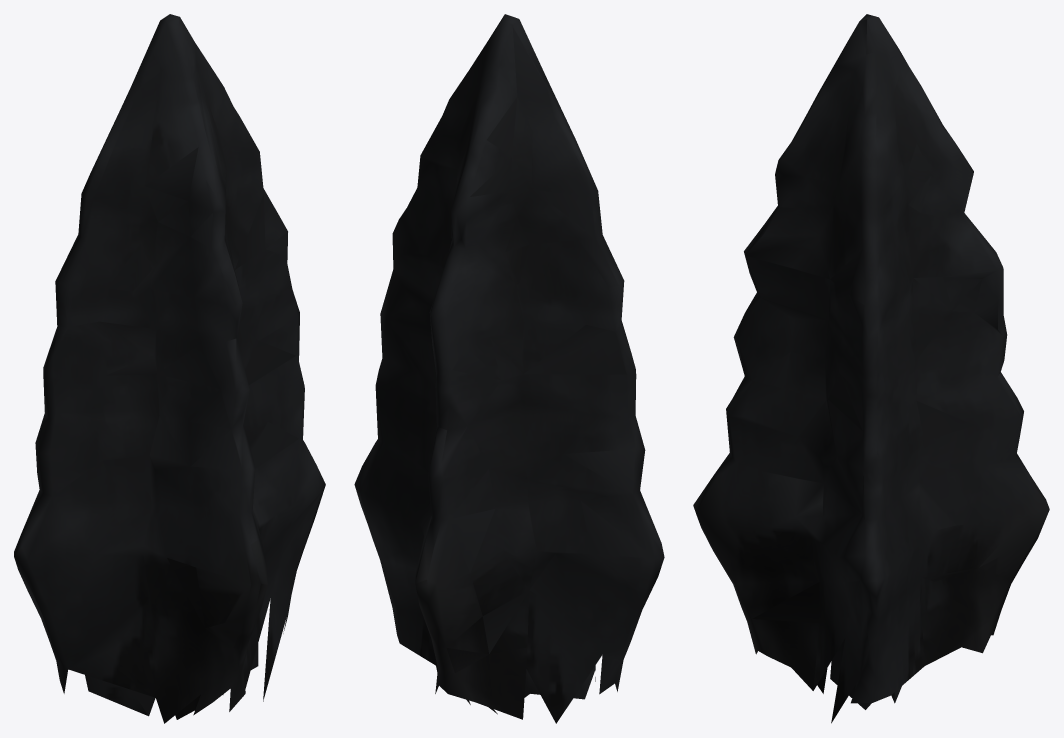
Rendered from obsidian-blade-model.glb.
3 views of the same model, side by side, from view 1: azimuth 30°, elevation 25°; view 2: azimuth 150°, elevation 25°; view 3: azimuth 270°, elevation 25° (orthographic). The views are drawn at different scales.
Visible parts, largest first — view 1: Knapped obsidian blade; view 2: Knapped obsidian blade; view 3: Knapped obsidian blade.
Boxes of the visible parts, x1,y1,x2,y2 form: Knapped obsidian blade: [14, 14, 325, 723]; Knapped obsidian blade: [354, 14, 664, 723]; Knapped obsidian blade: [693, 14, 1049, 723].
Bounding box in the file's own units: 0.1367 × 0.2909 × 0.1396.
1 material, 1 textured.
